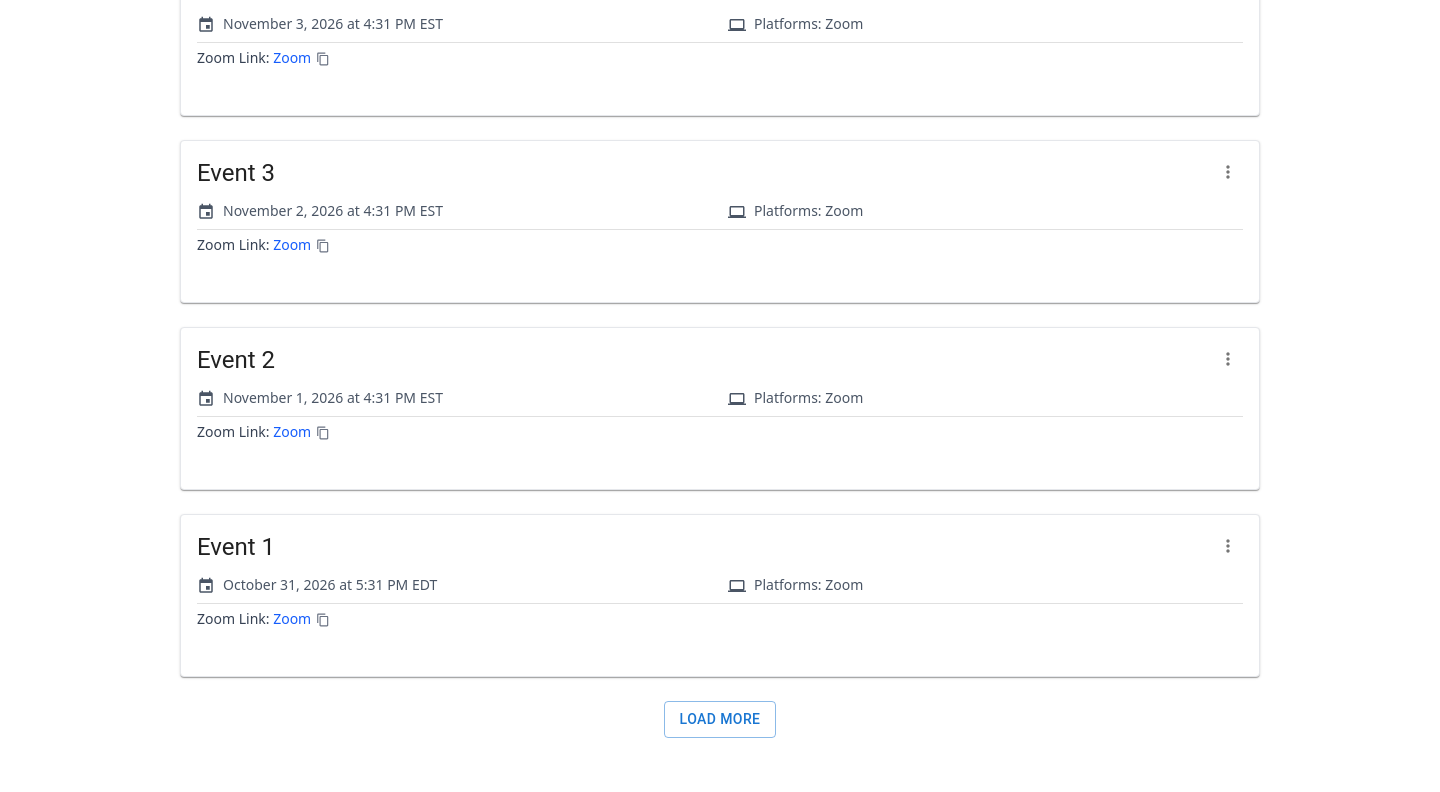
Scenario: Events Page › should load more events when "Load More" is clicked
(page scrolled)
Check: the heading "Event 1" is shown, box [197, 534, 275, 562]
Click the button "Load More" at [720, 720], box [664, 702, 776, 738]
(page scrolled)
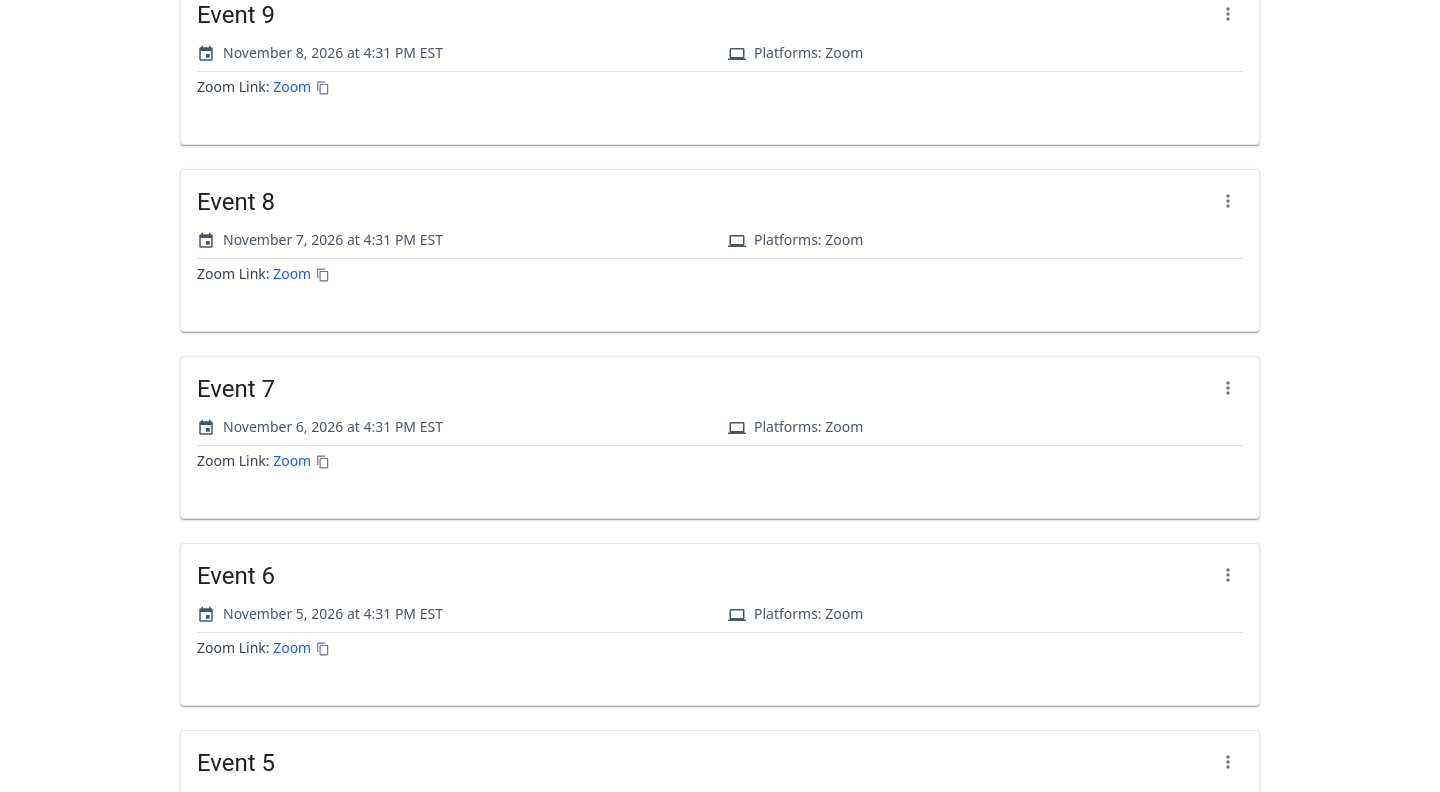
Check: the heading "Event 7" is shown, box [197, 375, 275, 403]
